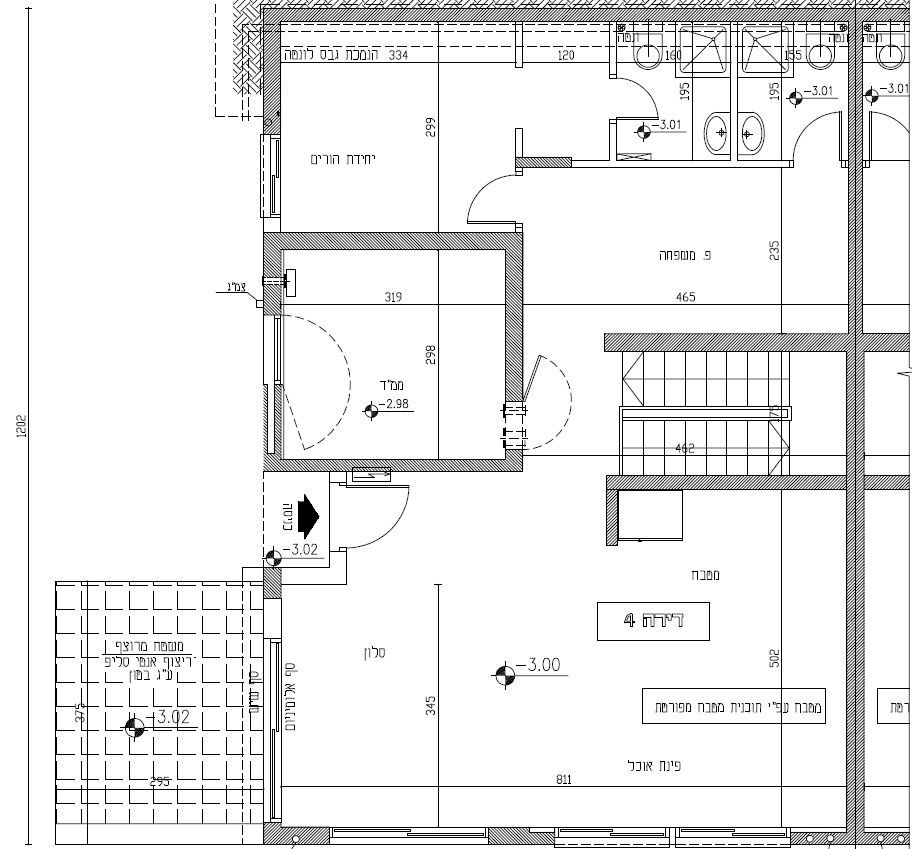door: (348, 478, 415, 550), (788, 109, 846, 160), (463, 174, 515, 230), (616, 72, 668, 128)
wall: (263, 9, 711, 22)
window: (604, 332, 847, 351), (263, 232, 521, 248), (263, 637, 282, 822), (606, 475, 848, 489), (262, 458, 521, 471), (328, 826, 487, 844), (504, 249, 522, 400), (553, 825, 671, 846), (673, 826, 791, 847)
